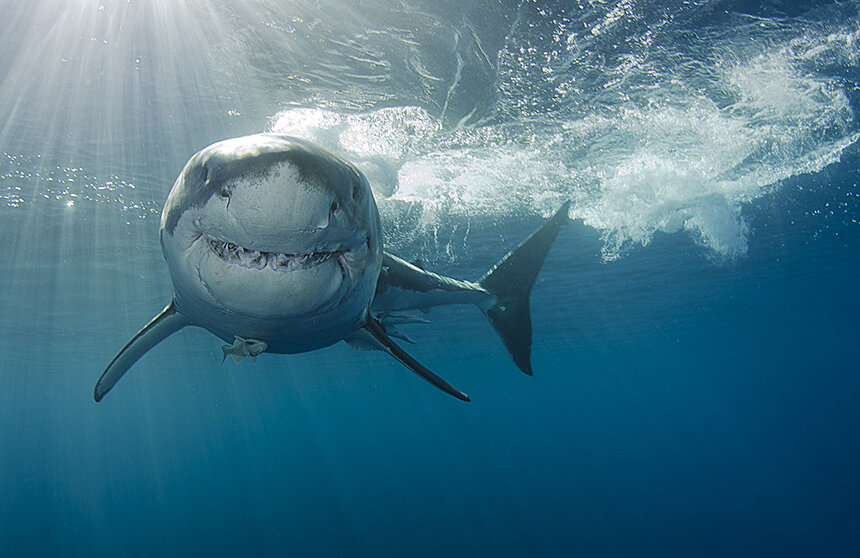shark: (71, 108, 583, 438)
